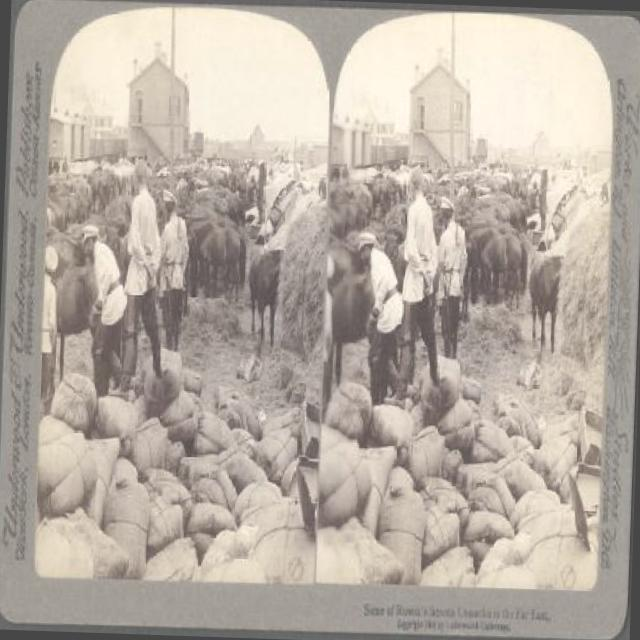Person: (382, 162, 448, 414), (106, 157, 170, 402), (352, 230, 405, 400), (77, 224, 129, 390), (431, 195, 469, 356), (156, 184, 190, 352), (37, 244, 59, 418)
